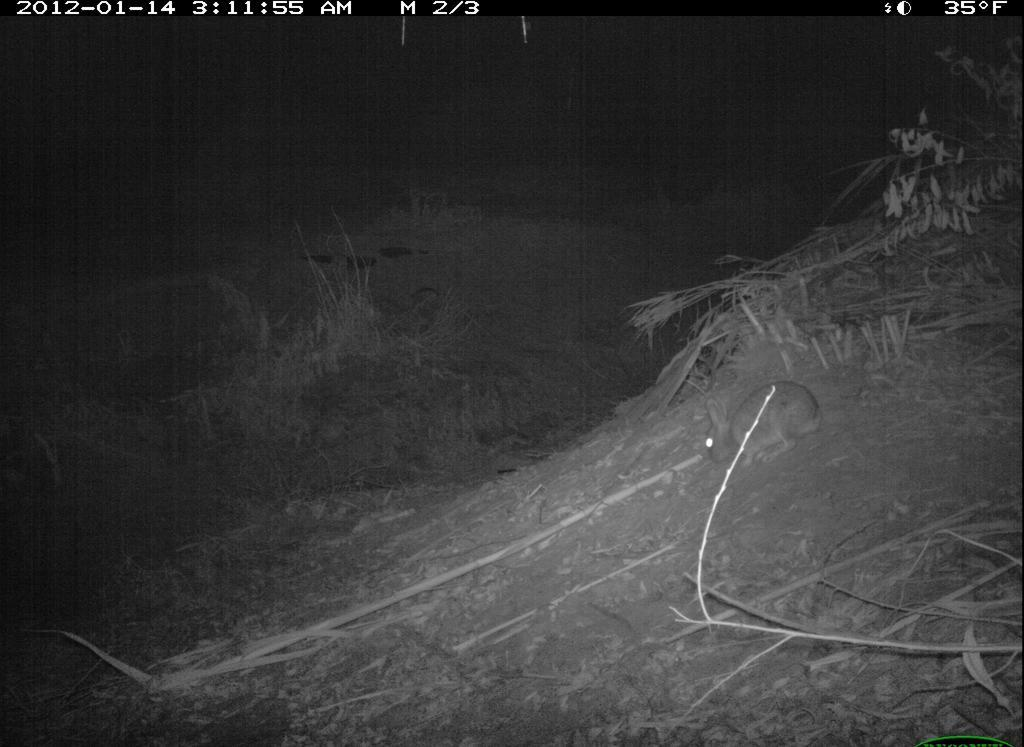rabbit: (698, 377, 827, 479)
